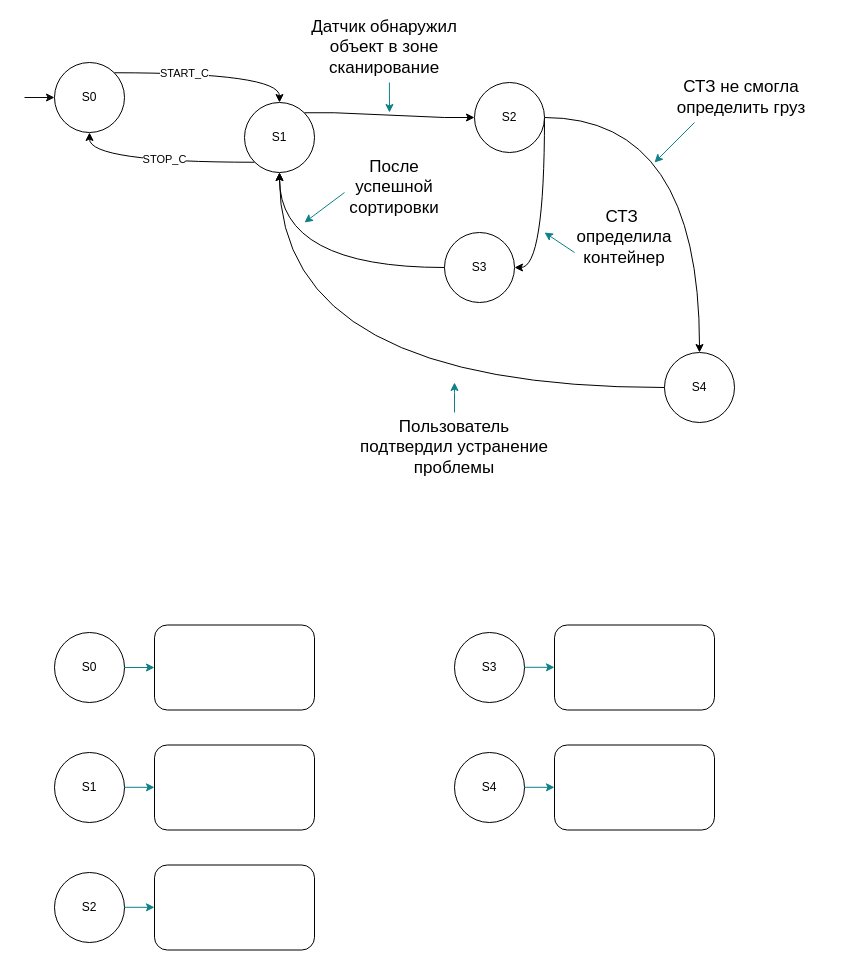
This 859x968 diagram has some shape labels left out. The centre of each missing label's shape, as x and y in pixels:
Начало движения конвейера: [234,787]
Ожидание команд: [234,667]
Остановка конвейера, начало работы системы CV: [234,907]
Система выдаёт ошибку.: [634,787]
Сортировка объектов: [634,667]
